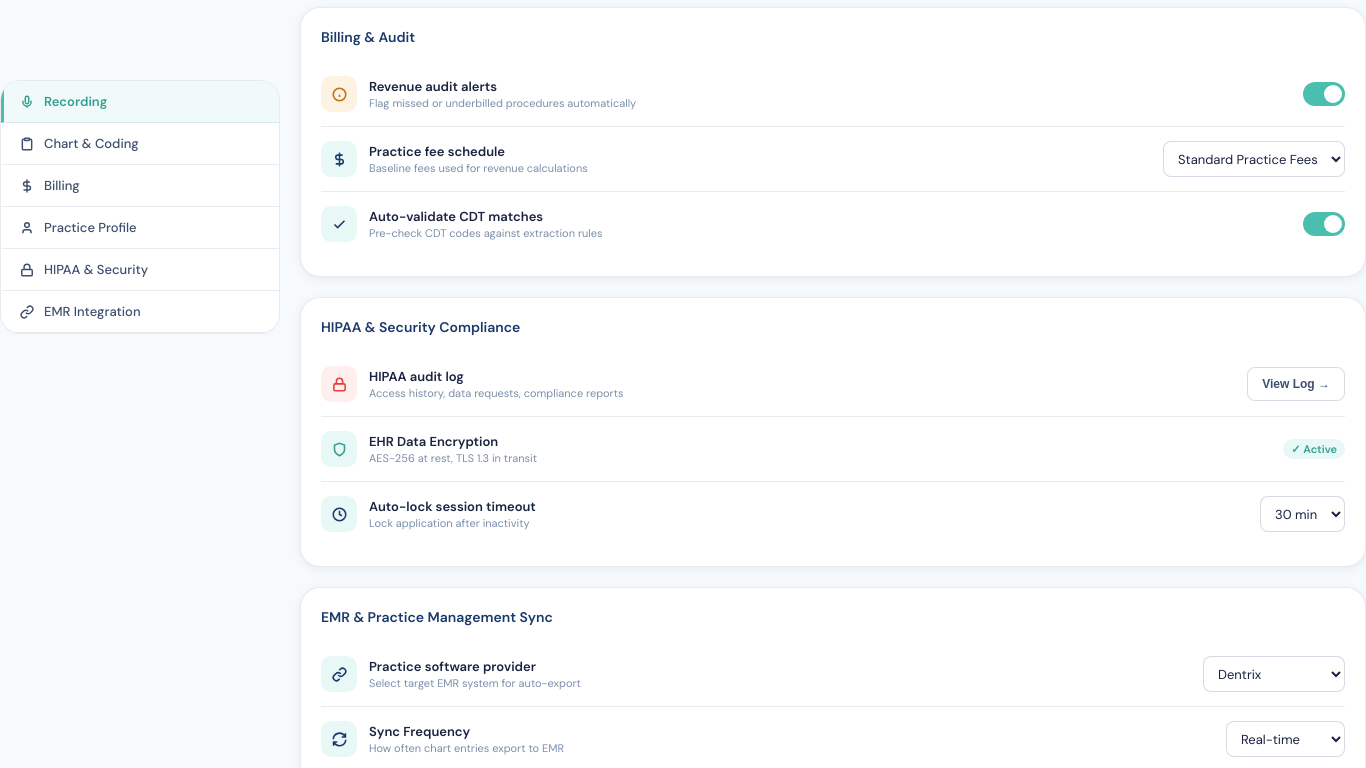
Scenario: 🔒 DentalScribeAI — Aggressive Frontend Unit Test Suite › 6. Settings Preferences rendering & Actions › should toggle HIPAA log modal rendering on View Log click
(page scrolled)
Expected: the text "HIPAA Audit & Compliance Logs" is not shown
# Open Logs
Click the button "View Log →".
click(1296, 384)  # box 1247,367 -> 1345,401
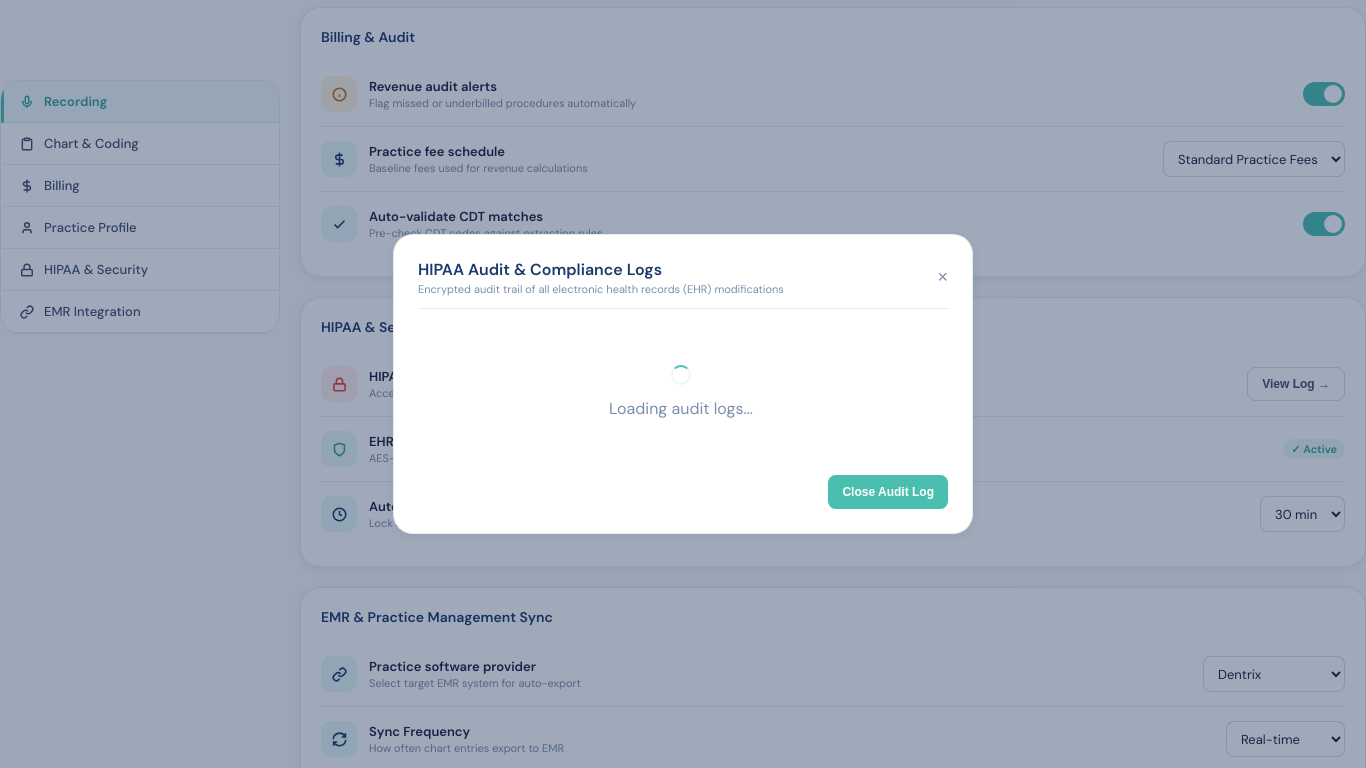
Expected: the text "HIPAA Audit & Compliance Logs" is shown, 418,259 -> 662,280
Expected: the button "Close Audit Log" is shown
# Close Logs
Click the button "Close Audit Log".
click(888, 492)  # box 828,475 -> 948,509
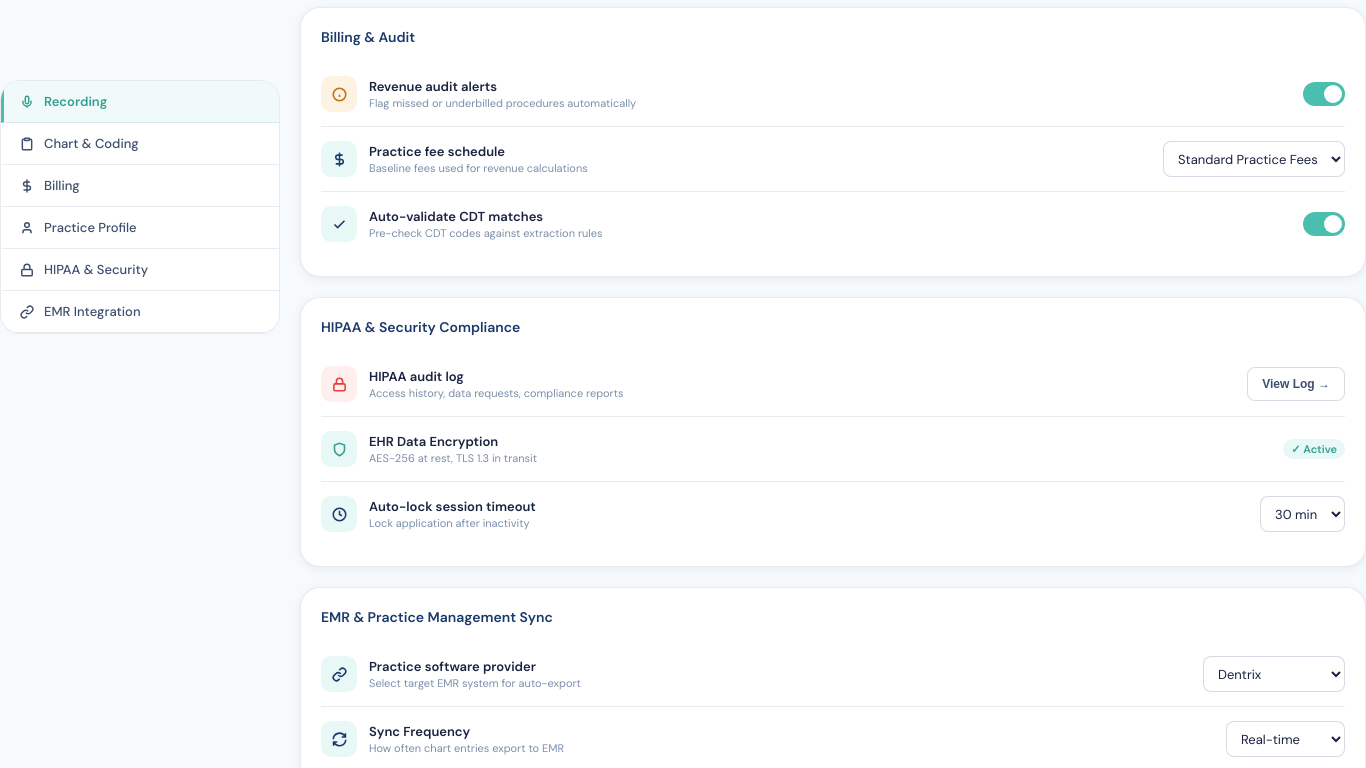
Expected: the text "HIPAA Audit & Compliance Logs" is gone
